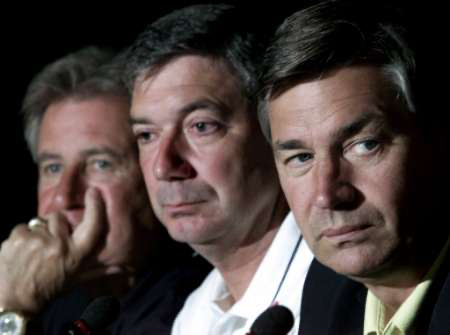Face: (265, 115, 423, 272), (122, 98, 261, 243), (29, 135, 143, 276)
